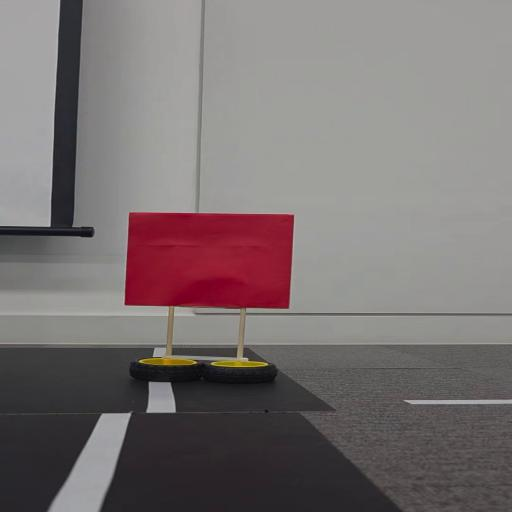Sign_A: (114, 204, 305, 382)
